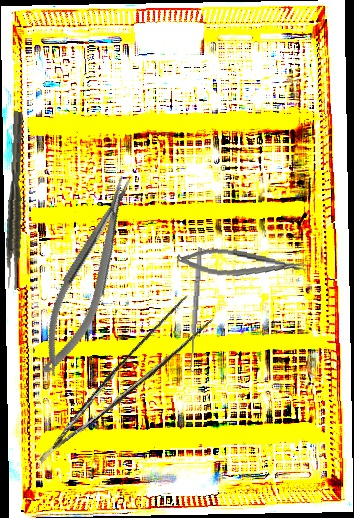Hook Surgical: (187, 247, 208, 373)
Needle Holder: (26, 171, 152, 381), (175, 243, 308, 285)
Tissue Forceps: (15, 288, 222, 464), (3, 111, 29, 290)
